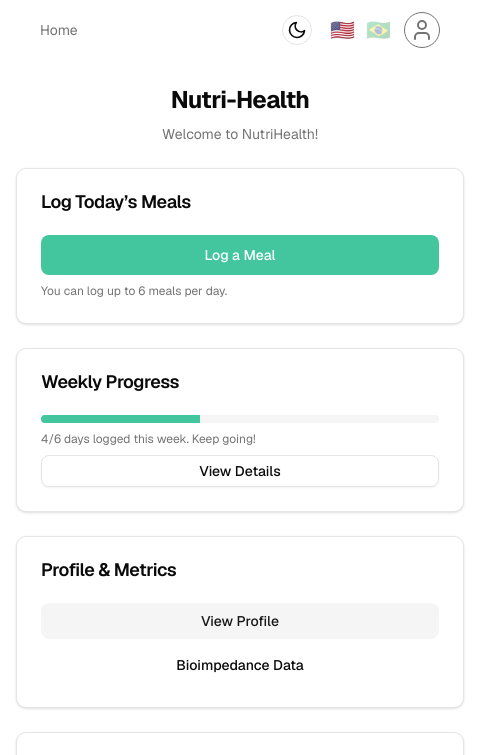
Scenario: Home page i18n › switches language using LanguageSwitcher
This screenshot has width=481, height=755.
expect the element with test id "language-switcher" is shown: met, box left=328, top=14, right=396, bottom=46
Click the button named "Mudar para Português": point(380, 30) left=364, top=14, right=396, bottom=46
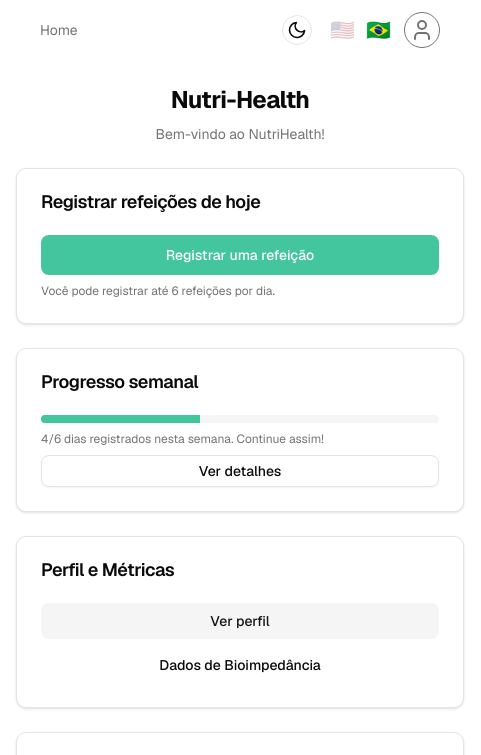
expect the text "Bem-vindo ao NutriHealth!" is shown: met, box left=156, top=124, right=324, bottom=144
Click the button named "Switch to English": point(344, 30) left=328, top=14, right=360, bottom=46
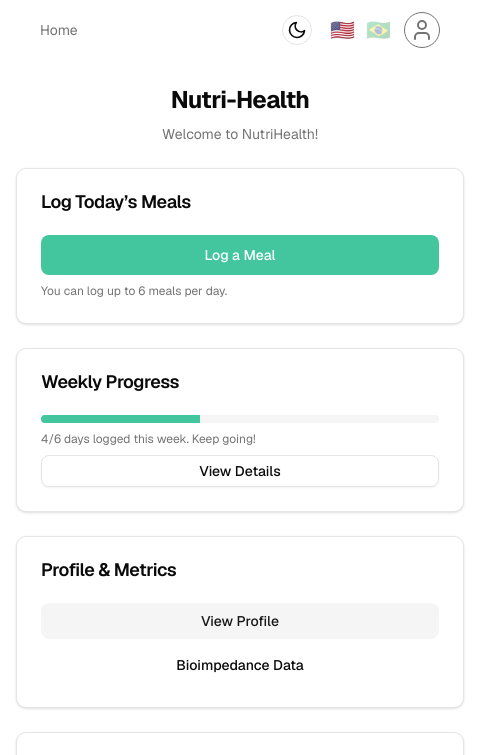
expect the text "Welcome to NutriHealth!" is shown: met, box left=162, top=124, right=318, bottom=144
